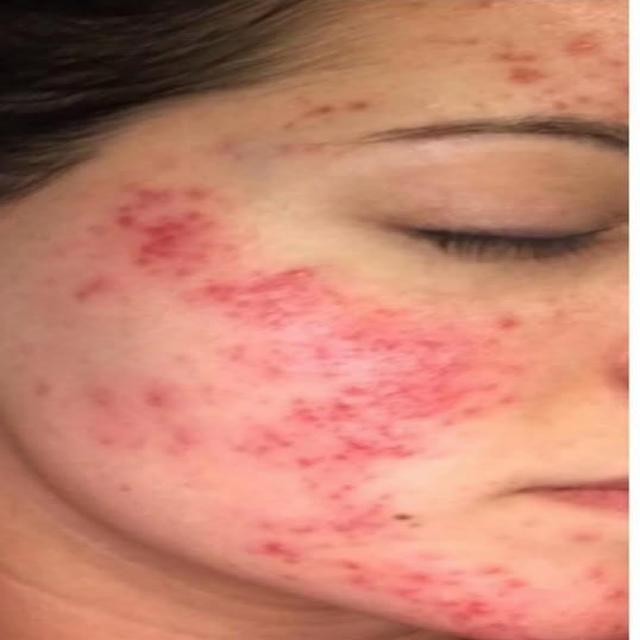Rosacea: (97, 194, 529, 625)
